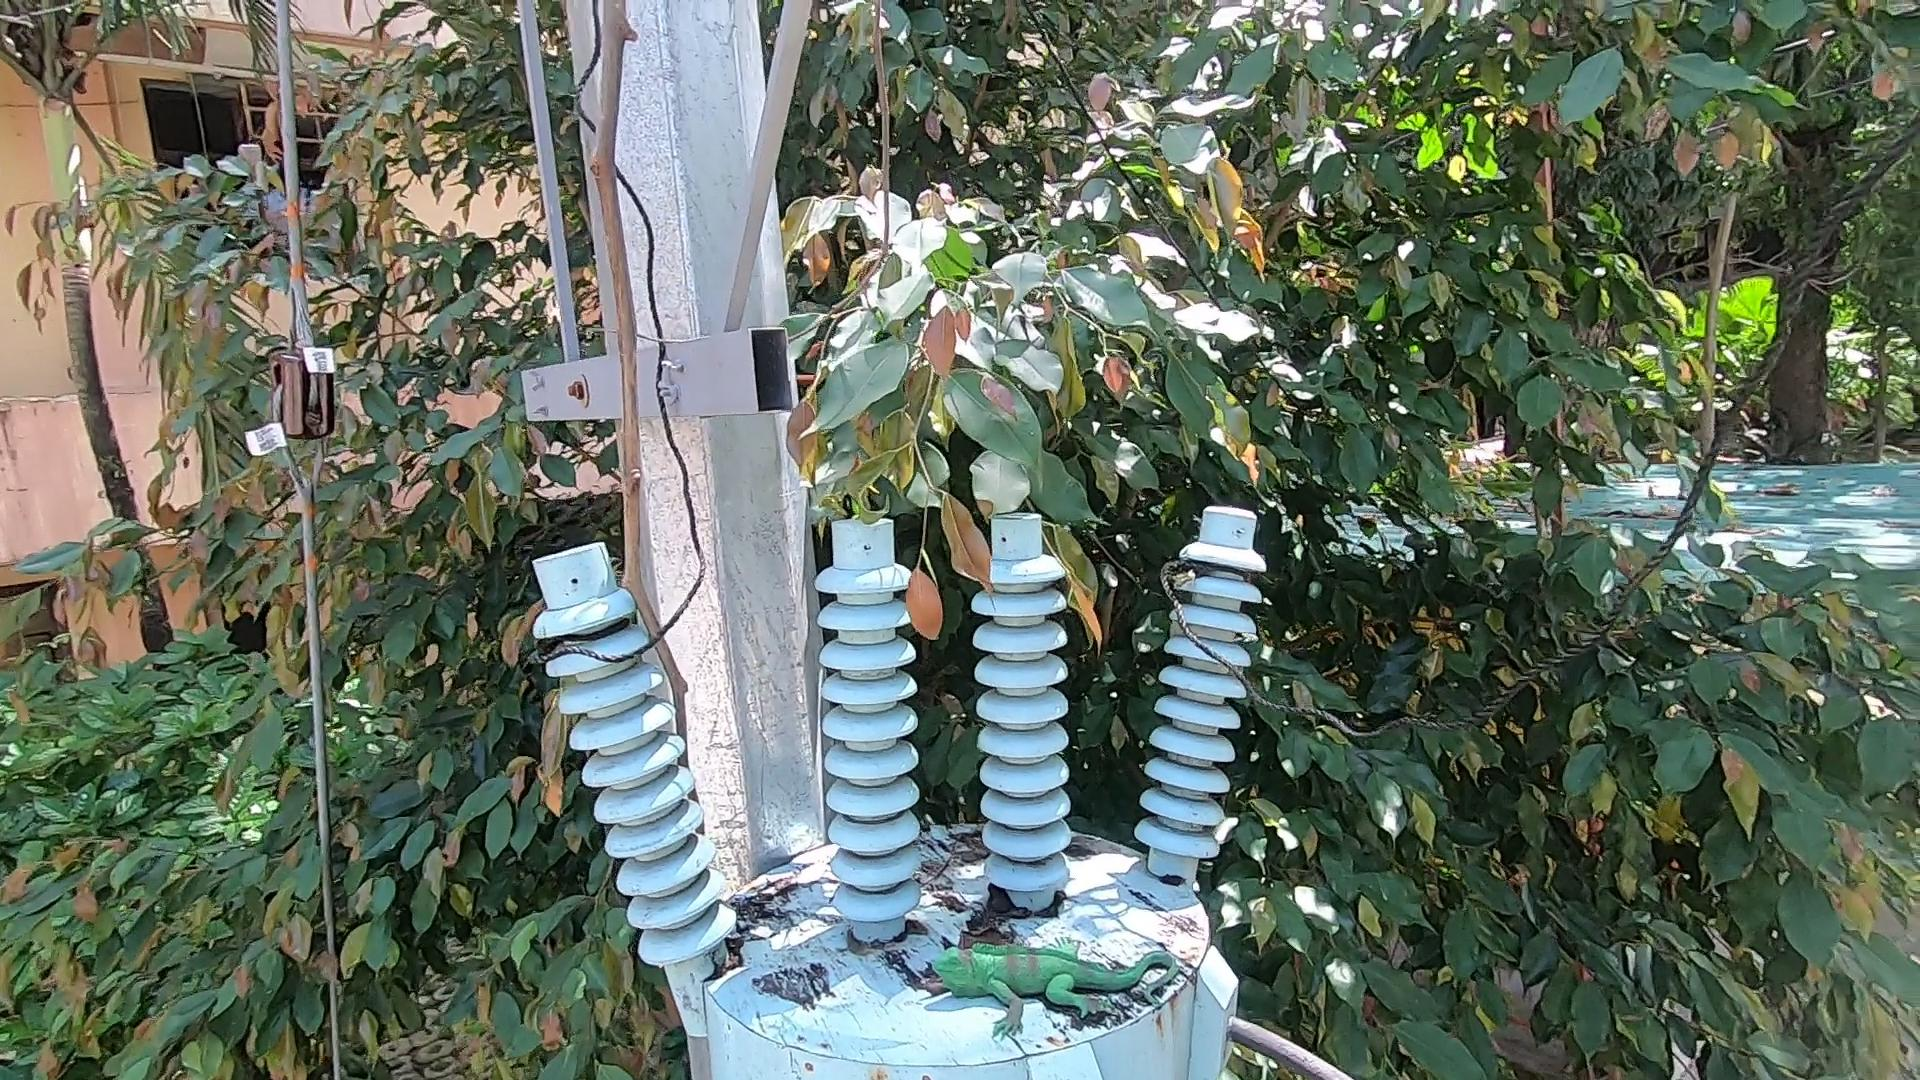branch with leaves: (829, 303, 1131, 644)
leaf: (957, 889, 1029, 957), (705, 932, 754, 989)
tree branch: (554, 9, 727, 785)
